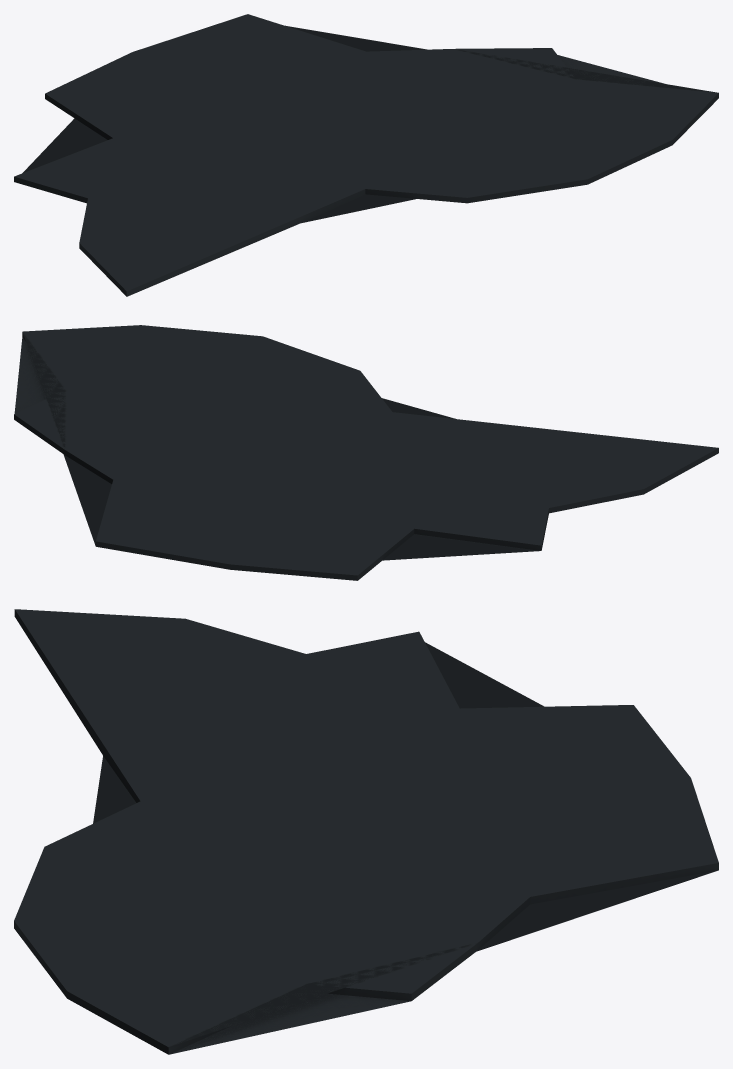
The model's file is puddle.fbx.
3 views of the same model, one above another, from view 1: azimuth 30°, elevation 25°; view 2: azimuth 150°, elevation 25°; view 3: azimuth 270°, elevation 25° (orthographic). The views are drawn at different scales.
Parts seen in each view (by area): view 1: Body; view 2: Body; view 3: Body.
Boxes of the visible parts, bbox=[...] form: Body: bbox=[14, 14, 718, 296]; Body: bbox=[14, 325, 718, 580]; Body: bbox=[14, 609, 718, 1054].
Size of the model in its own units: 5 by 0.04 by 3.4.
Materials: 1 (1 with a texture image).
